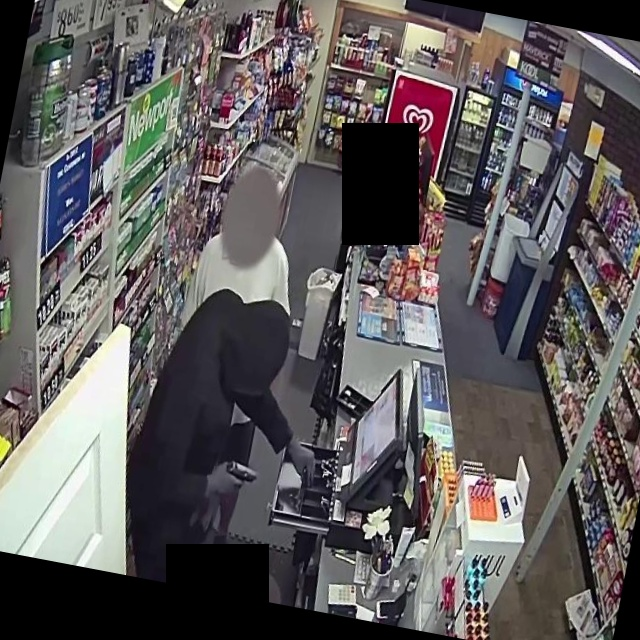gun: (215, 450, 269, 497)
